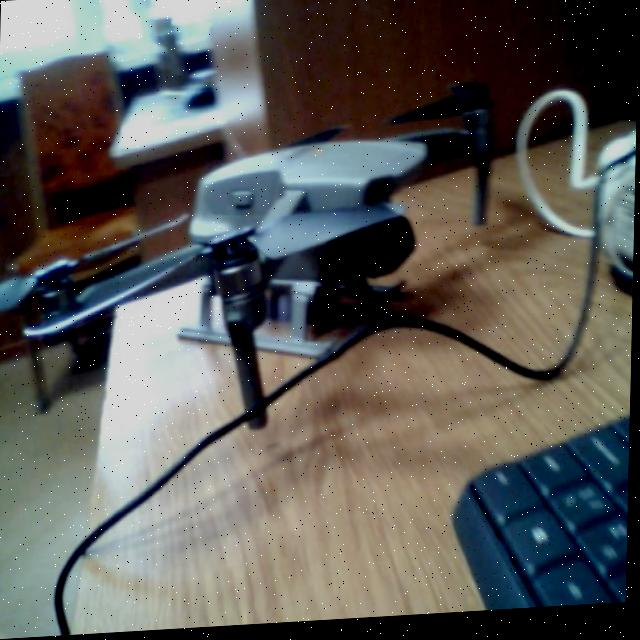drone: (0, 67, 550, 427)
